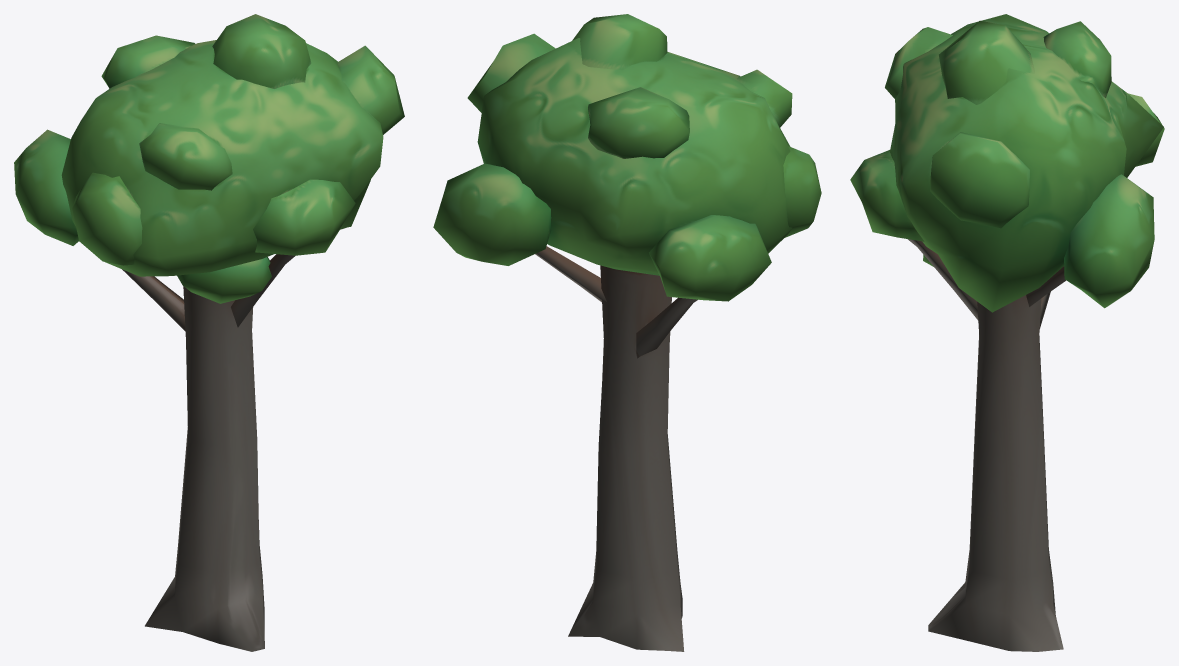
File: tree_01_mesh.fbx
3 views of the same model, side by side, from view 1: azimuth 30°, elevation 25°; view 2: azimuth 150°, elevation 25°; view 3: azimuth 270°, elevation 25° (orthographic). The views are drawn at different scales.
Parts seen in each view (by area): view 1: tree_01; view 2: tree_01; view 3: tree_01.
Part boxes in pixels (x1=…): tree_01: x1=14, y1=14, x2=404, y2=651; tree_01: x1=433, y1=14, x2=821, y2=651; tree_01: x1=850, y1=14, x2=1164, y2=651.
Bounding box in the file's own units: 182 × 323 × 151.
